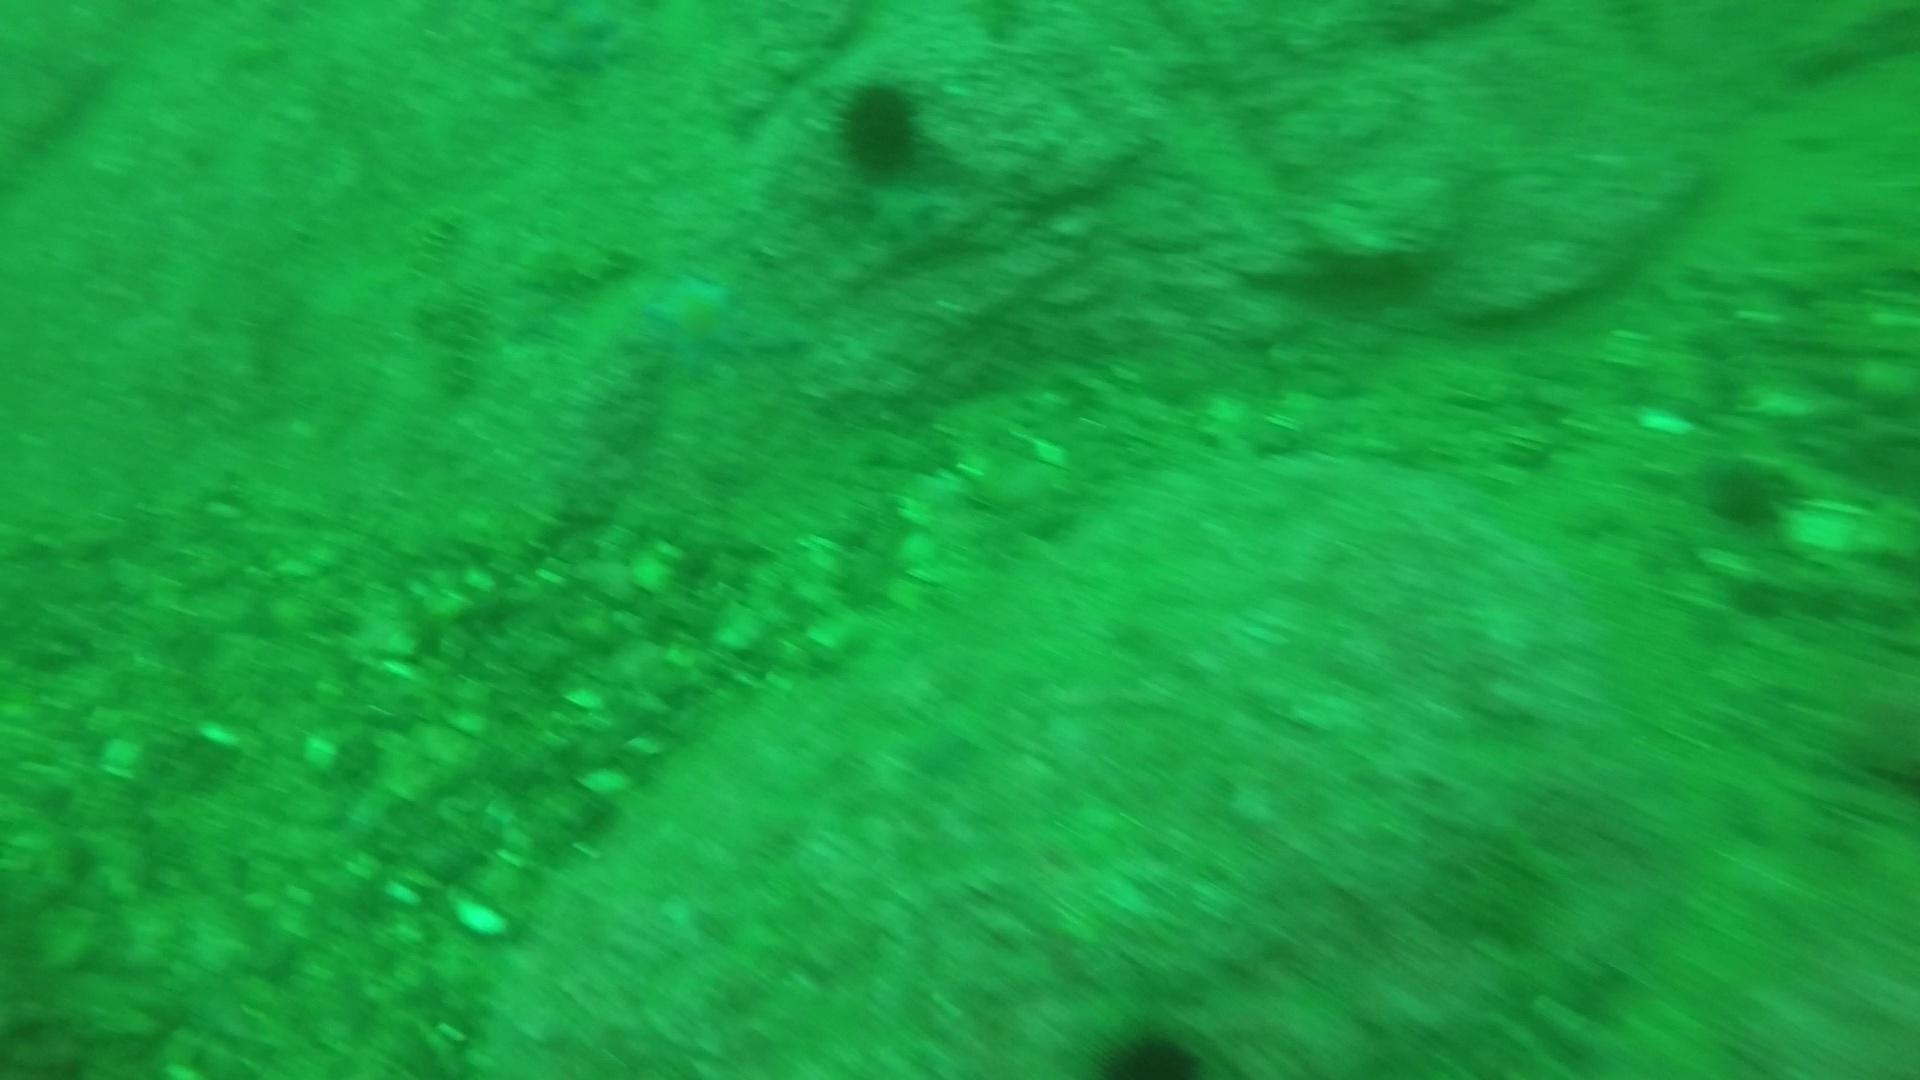echinus: (824, 71, 935, 187), (1697, 452, 1801, 535), (1088, 1015, 1211, 1076)
starfish: (634, 260, 757, 377), (516, 11, 634, 79)
